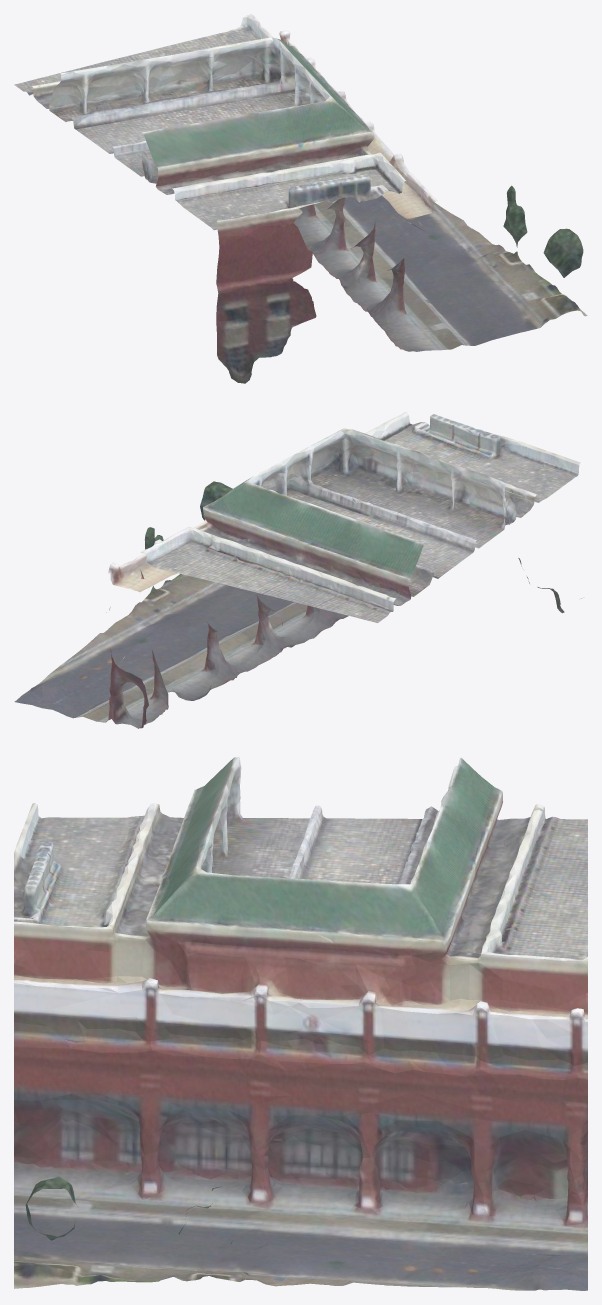
The model's file is Tile_+003_+003_L21_0002100.glb.
The picture shows the model from 3 angles, top to bottom: view 1: azimuth 30°, elevation 25°; view 2: azimuth 150°, elevation 25°; view 3: azimuth 270°, elevation 25°; orthographic projection. The views are drawn at different scales.
Visible parts, largest first — view 1: rtc; view 2: rtc; view 3: rtc.
Boxes of the visible parts, x1=… form: rtc: x1=14, y1=14, x2=587, y2=383; rtc: x1=14, y1=412, x2=581, y2=728; rtc: x1=14, y1=757, x2=587, y2=1290.
Size of the model in its own units: 25.13 by 14.46 by 25.13.
Materials: 1 (1 with a texture image).
